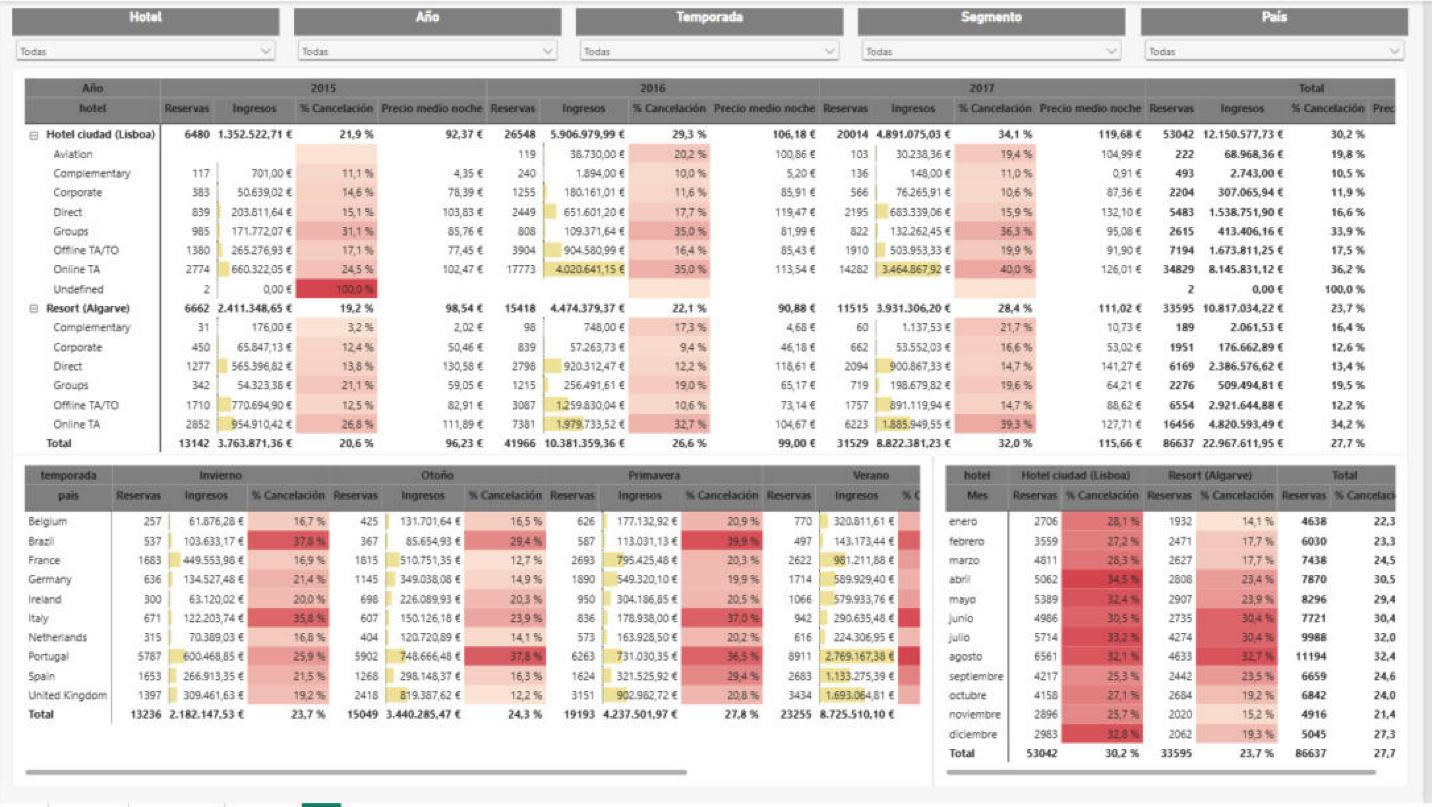

This screenshot's page, from the dashboard's own definition file:
{"tool":"powerbi","page":{"name":"Reporting","canvas":[1920,1080],"ordinal":2},"visuals":[{"type":"slicer","title":"Hotel","fields":{"Values":["Hoteles.hotel"]},"box":[20,10,360,80],"z":0},{"type":"slicer","title":"Año","fields":{"Values":["Calendario.Año"]},"box":[400,10,360,80],"z":1000},{"type":"slicer","title":"País","fields":{"Values":["Paises.pais"]},"box":[1540,10,360,80],"z":2000},{"type":"slicer","title":"Temporada","fields":{"Values":["Reservas.temporada"]},"box":[780,10,360,80],"z":3000},{"type":"slicer","title":"Segmento","fields":{"Values":["Reservas.segmento_mercado"]},"box":[1160,10,360,80],"z":4000},{"type":"pivotTable","fields":{"Columns":["Calendario.Año"],"Rows":["Hoteles.hotel","Reservas.segmento_mercado"],"Values":["_Medidas.Reservas","_Medidas.Ingresos","_Medidas.% Cancelación","_Medidas.Precio medio noche"]},"box":[20.2,88.9,1879.9,550.8],"z":5000},{"type":"pivotTable","fields":{"Columns":["Reservas.temporada"],"Rows":["Paises.pais"],"Values":["_Medidas.Reservas","_Medidas.Ingresos","_Medidas.% Cancelación"]},"box":[20.2,610,1240.2,449.8],"z":6000},{"type":"pivotTable","fields":{"Columns":["Hoteles.hotel"],"Rows":["Calendario.Mes"],"Values":["_Medidas.Reservas","_Medidas.% Cancelación"]},"box":[1260.4,610,639.7,449.8],"z":7000}]}

Visuals, with their boxes in screenshot pixels (x1, y1, x2, y2), scaled from the page's 1920x1080 canvas onto the 1432x807 screenshot:
"Hotel" slicer: {"left": 15, "top": 7, "right": 283, "bottom": 67}
"Año" slicer: {"left": 298, "top": 7, "right": 567, "bottom": 67}
"País" slicer: {"left": 1149, "top": 7, "right": 1417, "bottom": 67}
"Temporada" slicer: {"left": 582, "top": 7, "right": 850, "bottom": 67}
"Segmento" slicer: {"left": 865, "top": 7, "right": 1134, "bottom": 67}
pivotTable - Calendario.Año x Hoteles.hotel: {"left": 15, "top": 66, "right": 1417, "bottom": 478}
pivotTable - Reservas.temporada x Paises.pais: {"left": 15, "top": 456, "right": 940, "bottom": 792}
pivotTable - Hoteles.hotel x Calendario.Mes: {"left": 940, "top": 456, "right": 1417, "bottom": 792}
